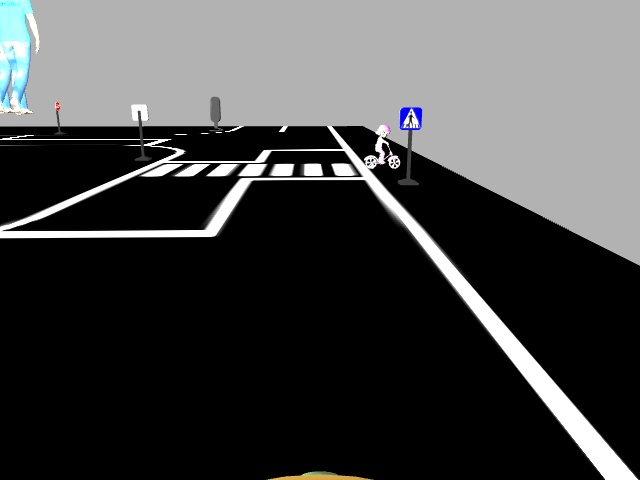Pedestrian: (362, 118, 401, 171)
